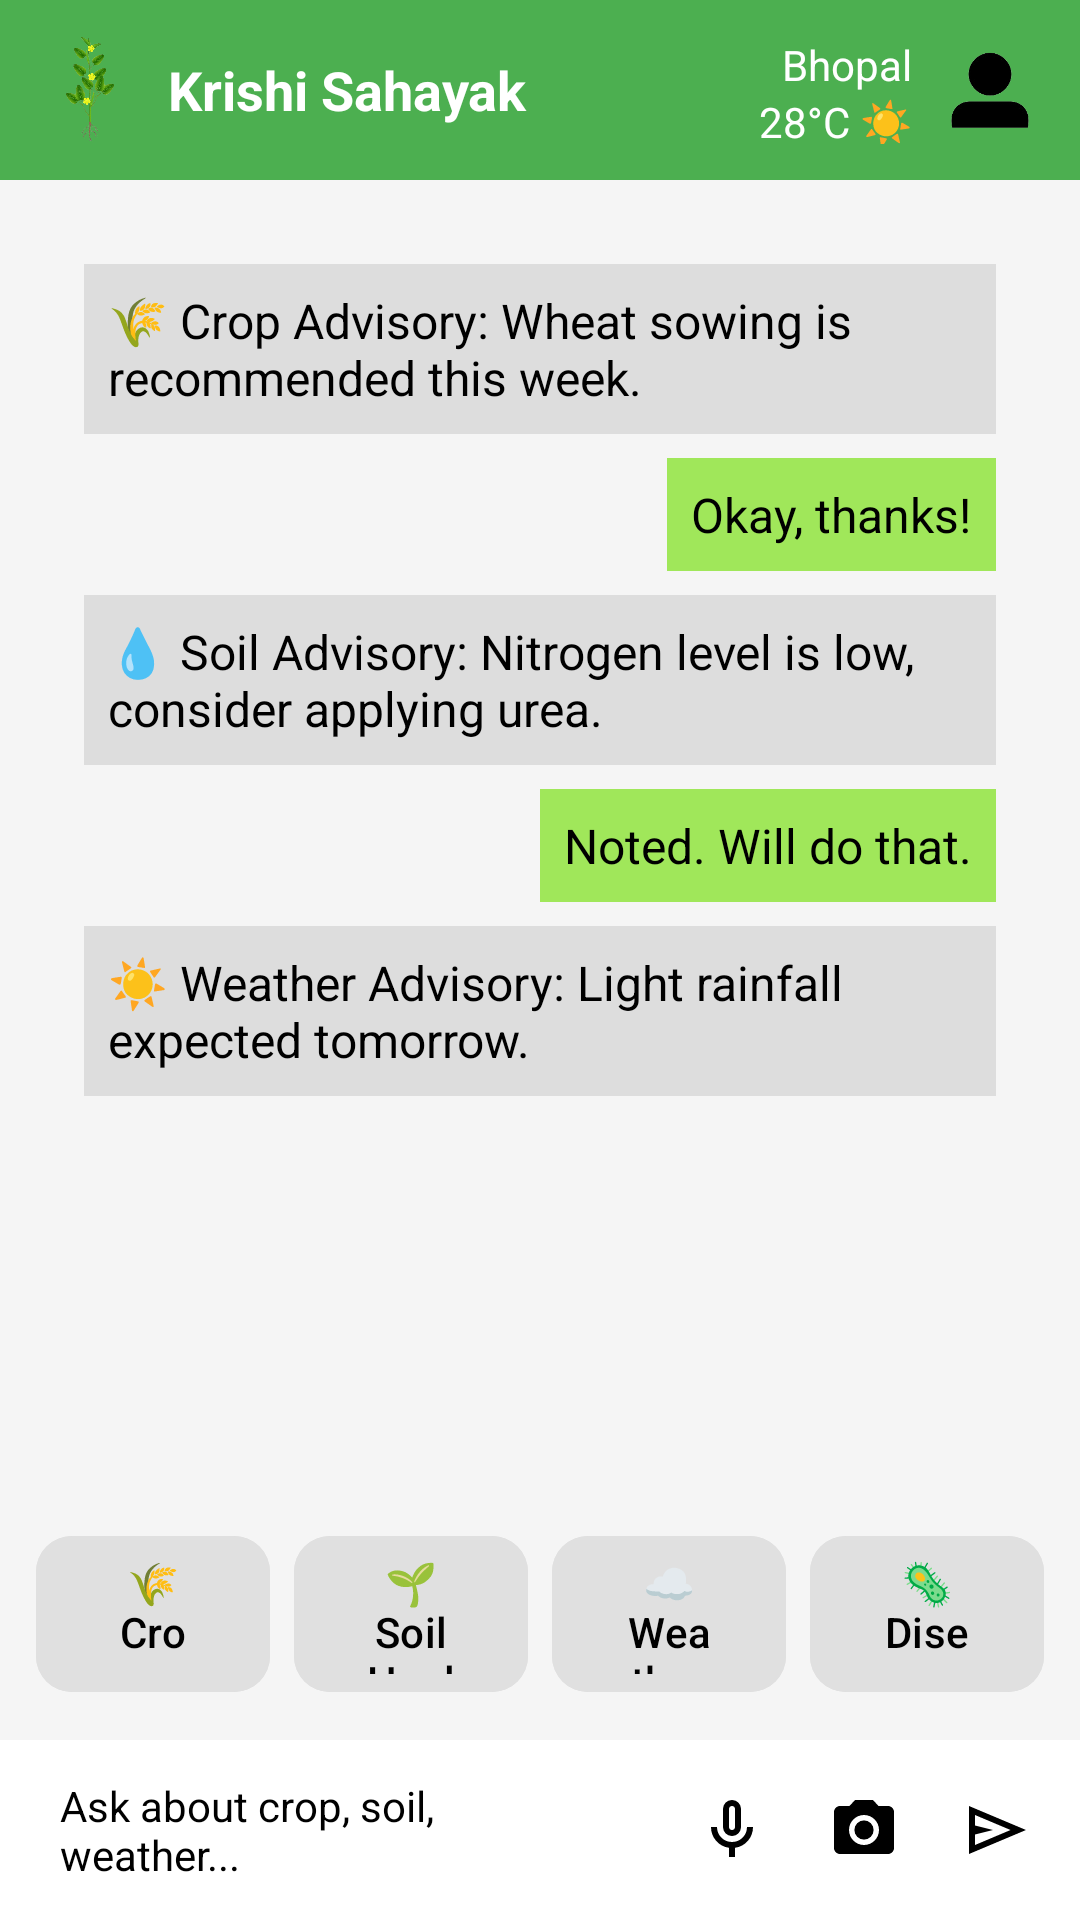

Named icons in this screenshot (1080 x 1920) and their bounding boxes, BBox(x1, y1, x2, y2):
App Icon: BBox(66, 37, 114, 141)
Camera Button: BBox(834, 1800, 894, 1854)
Mic Button: BBox(711, 1800, 753, 1857)
Profile Icon: BBox(951, 53, 1029, 128)
Send Button: BBox(969, 1806, 1026, 1854)
